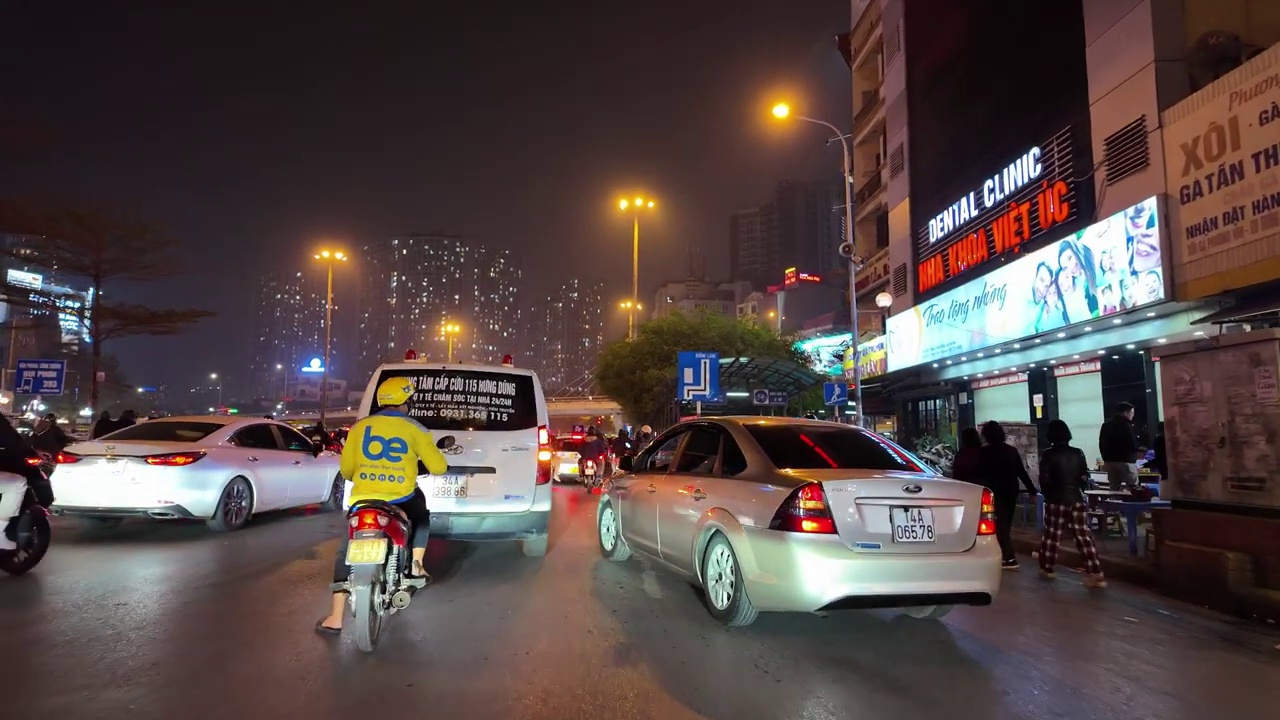acesa: (611, 189, 659, 221), (311, 242, 351, 271), (766, 95, 796, 125), (436, 317, 467, 346)
